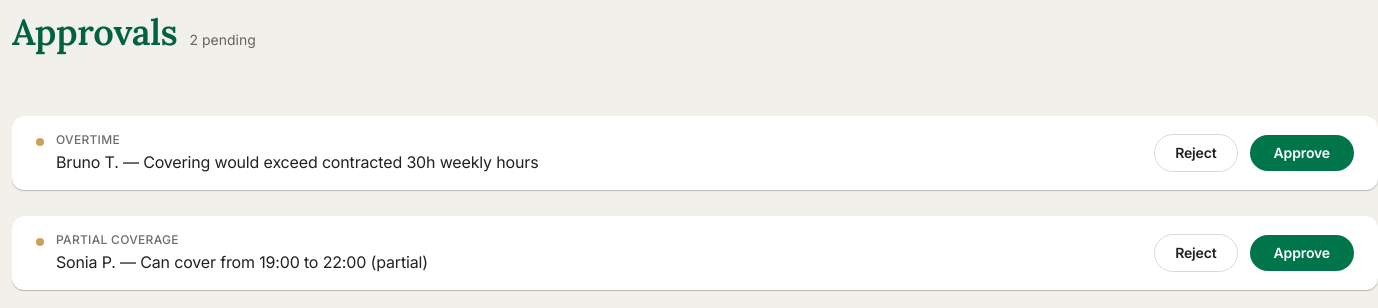
ApprovalsScreen › removes an approval from the inbox after approving it
Check: the text "Bruno T. — Covering would exceed contracted 30h weekly hours" is shown, box [56,150,538,174]
Click the button "Approve" in the row of "Overtime": point(1302, 153) [1250,135,1354,171]
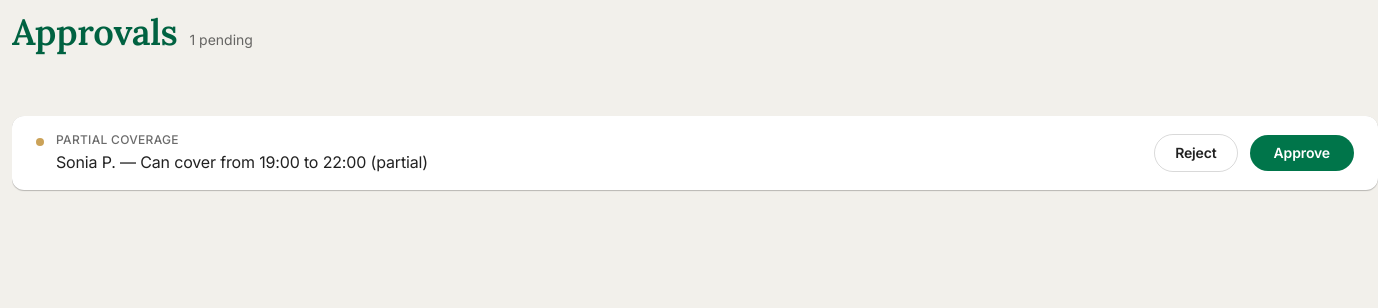
Check: the text "Sonia P. — Can cover from 19:00 to 22:00 (partial)" is shown, box [56,150,428,174]
Check: the text "Bruno T." is gone
